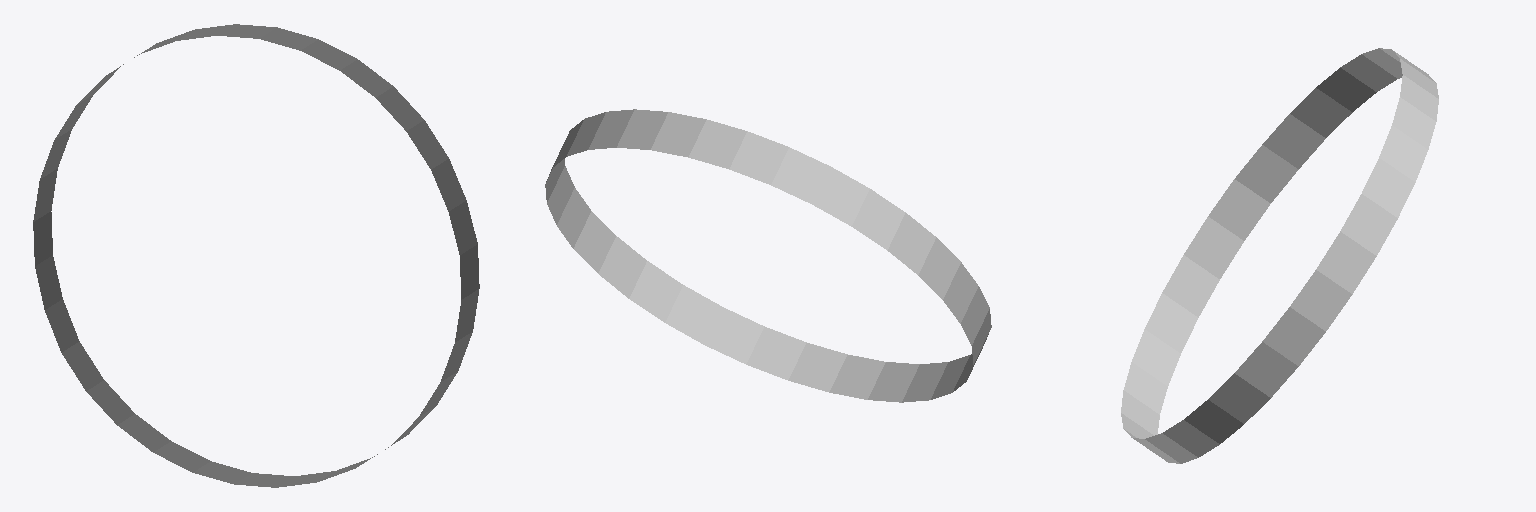
File: loop_angled.obj
The picture shows the model from 3 angles: view 1: azimuth 30°, elevation 25°; view 2: azimuth 150°, elevation 25°; view 3: azimuth 270°, elevation 25°; orthographic projection.
Bounding box in the file's own units: 1.54 × 1.32 × 1.05.